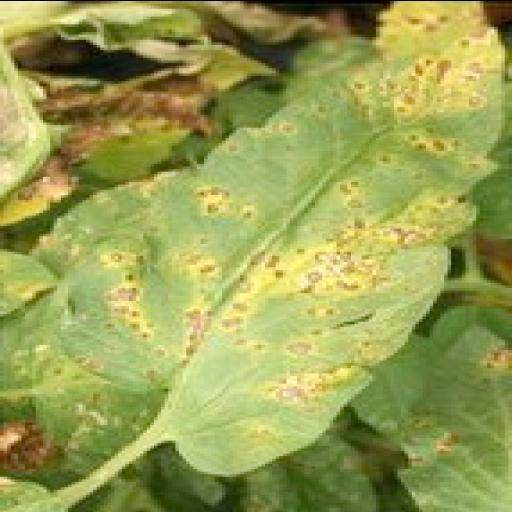Septoria: (32, 2, 512, 476)
